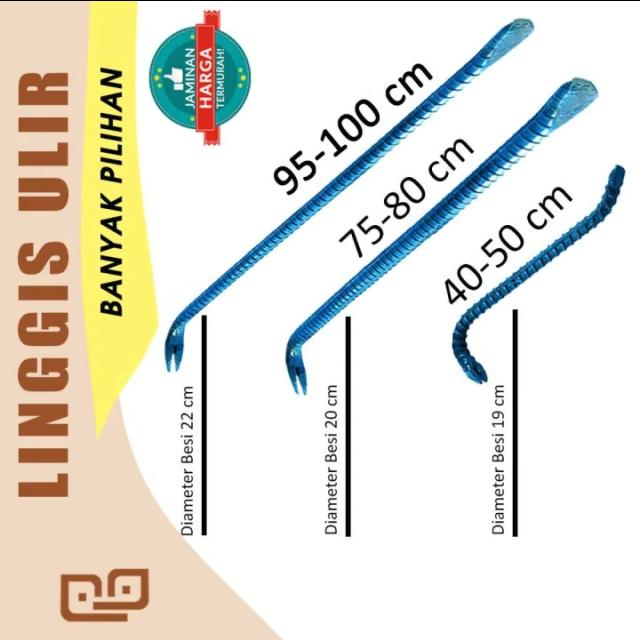Linggis: (161, 16, 536, 373)
